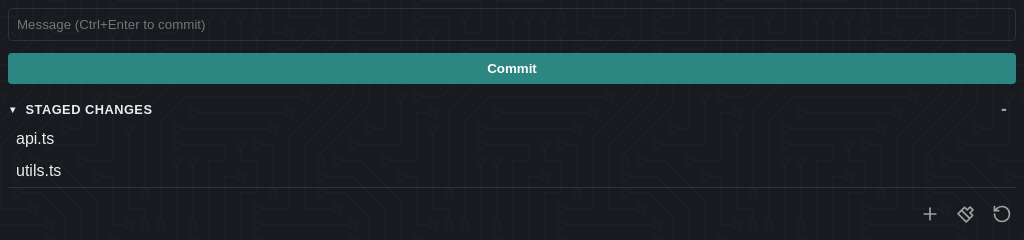
FilesBox Component Tests › Stage All and Unstage All Actions › should unstage all files when header '-' button is clicked
Click the button titled "Unstage all changes" at {"x": 1004, "y": 110}, box [992,98,1016,122]
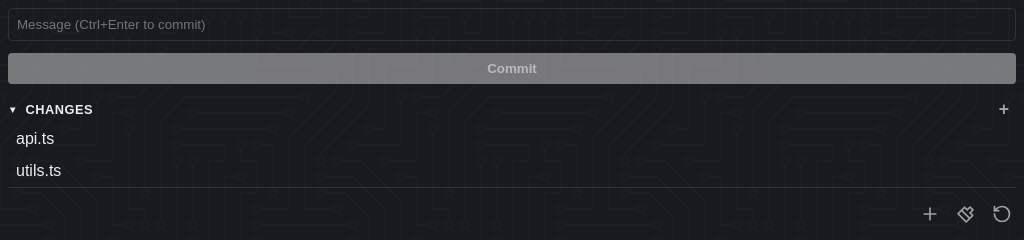
Expected: the text "utils.ts" is shown, [16,162,61,179]
Now the button "Staged Changes" is gone
